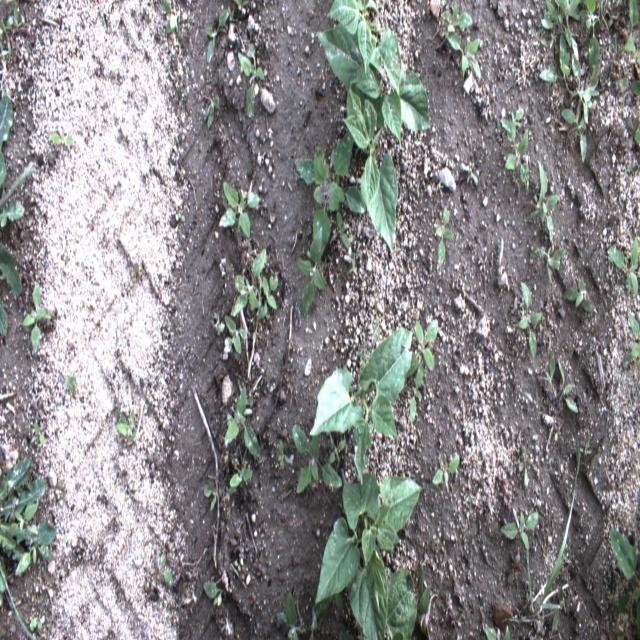crop: (312, 469, 422, 636), (316, 1, 433, 150), (310, 326, 415, 483), (293, 124, 366, 260), (343, 87, 397, 254), (1, 95, 35, 228), (609, 527, 640, 639), (0, 235, 23, 338)
weed: (523, 424, 581, 629), (0, 454, 57, 594), (540, 37, 603, 124), (291, 421, 341, 491), (540, 348, 585, 422), (295, 225, 326, 315), (500, 108, 531, 192), (515, 282, 547, 359), (232, 244, 267, 314), (220, 180, 260, 238), (532, 167, 559, 251), (606, 234, 639, 298), (237, 41, 264, 117), (408, 310, 439, 374), (538, 0, 582, 45), (22, 282, 49, 351), (499, 512, 540, 552), (580, 1, 602, 75), (203, 6, 230, 65), (225, 386, 252, 442), (562, 108, 588, 166), (434, 205, 455, 268), (444, 2, 471, 50), (562, 274, 595, 312), (280, 590, 304, 640), (162, 3, 188, 48), (409, 352, 425, 423), (256, 274, 280, 320), (622, 310, 640, 370), (12, 537, 40, 575), (528, 248, 566, 276), (622, 0, 640, 58), (460, 36, 482, 79), (224, 314, 246, 356), (415, 584, 433, 635), (431, 453, 460, 483), (115, 407, 138, 443), (14, 499, 38, 533), (1, 1, 23, 38), (227, 463, 254, 492), (242, 419, 260, 459), (203, 89, 220, 131), (335, 208, 352, 249), (202, 579, 226, 607), (517, 446, 532, 488), (615, 74, 639, 100), (603, 2, 624, 29), (622, 115, 639, 148), (49, 130, 75, 149), (162, 549, 174, 589), (204, 482, 217, 514), (485, 624, 514, 638), (508, 553, 522, 582), (330, 439, 346, 461), (27, 615, 47, 631), (276, 438, 285, 472), (34, 422, 45, 446), (1, 38, 12, 62), (213, 311, 223, 334), (68, 373, 77, 392), (351, 258, 358, 277)
